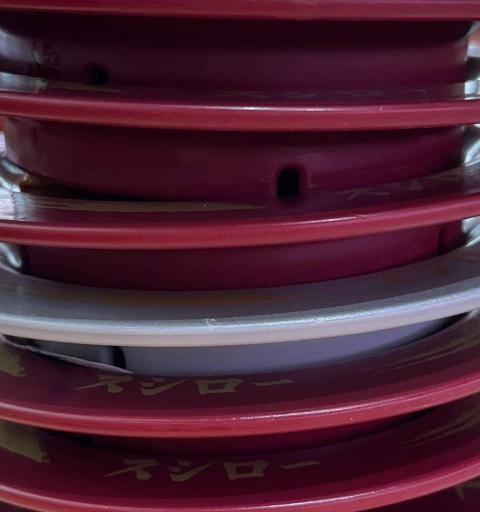Janred: (0, 47, 480, 147), (0, 433, 480, 511), (0, 153, 480, 227), (0, 372, 480, 420)
Janwhite: (0, 282, 480, 359)
